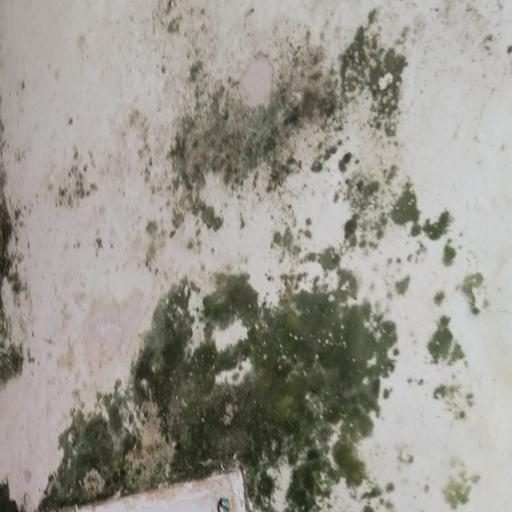algae: (18, 7, 481, 512)
